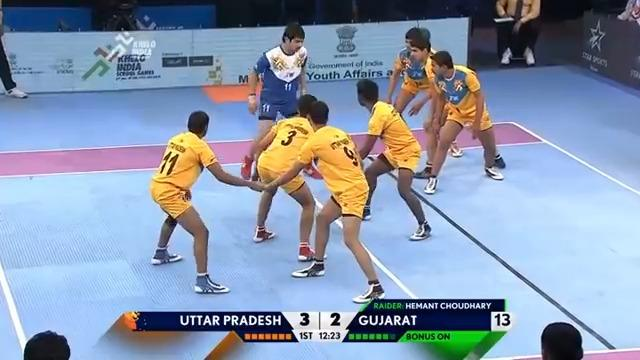Player: (254, 99, 385, 303), (148, 109, 273, 294), (352, 78, 432, 240), (250, 93, 326, 261), (423, 50, 505, 194), (385, 26, 462, 178)
Raider: (240, 22, 310, 180)
referee: (494, 0, 541, 66), (0, 1, 28, 98)
